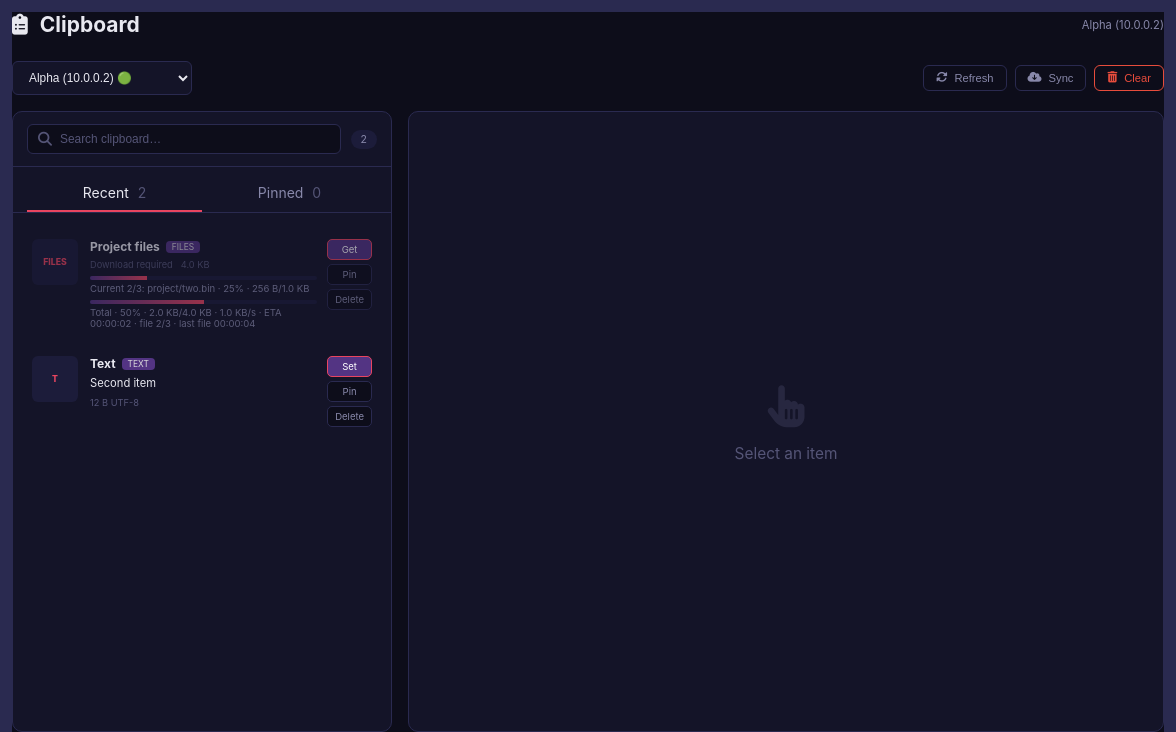
Test: ClipboardView › merges stream V2 status and renders concrete transfer progress
Expected: the text "Current 2/3: project/two.bin · 25% · 256 B/1.0 KB" is shown, x1=90 y1=283 x2=309 y2=294
Expected: the text "Total · 50% · 2.0 KB/4.0 KB · 1.0 KB/s · ETA 00:00:02 · file 2/3 · last file 00:00:04" is shown, x1=90 y1=307 x2=282 y2=329
Click the element with test id "clipboard-card" that starts with "FILES" at {"x": 202, "y": 284}, box x1=19 y1=227 x2=385 y2=341
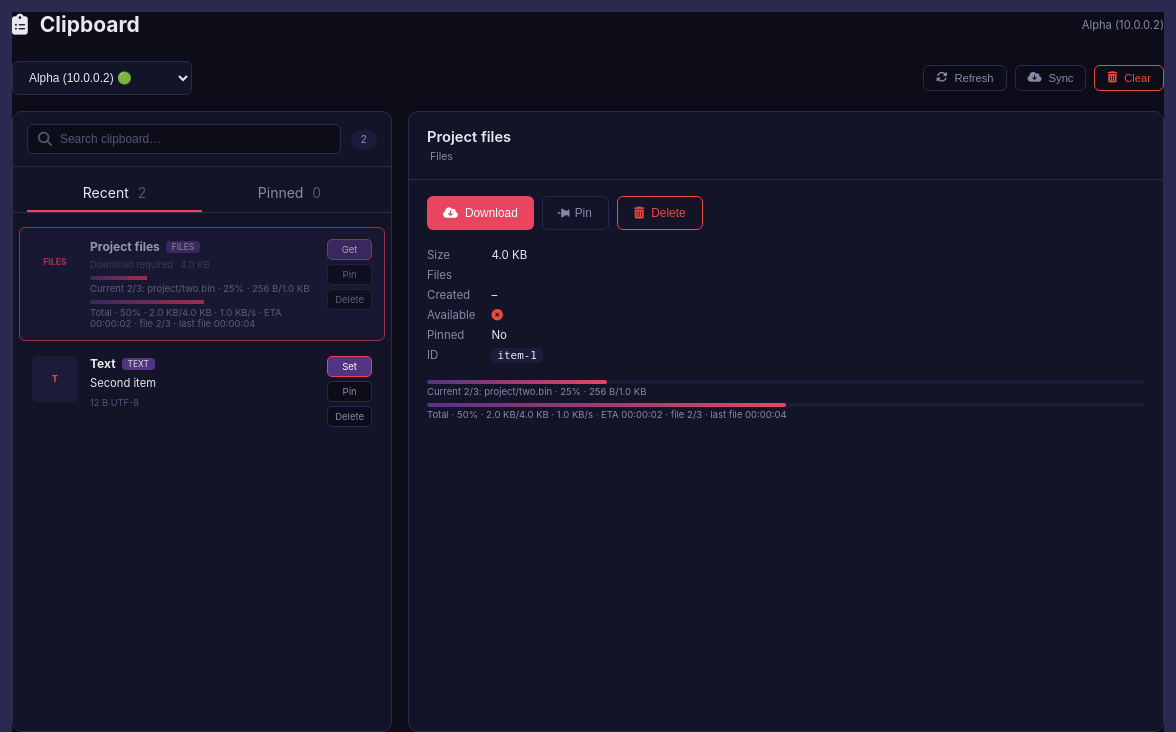
Expected: the number of elements with test id "detail-progress" is 2, x1=427 y1=380 x2=1145 y2=397; x1=427 y1=403 x2=1145 y2=420
